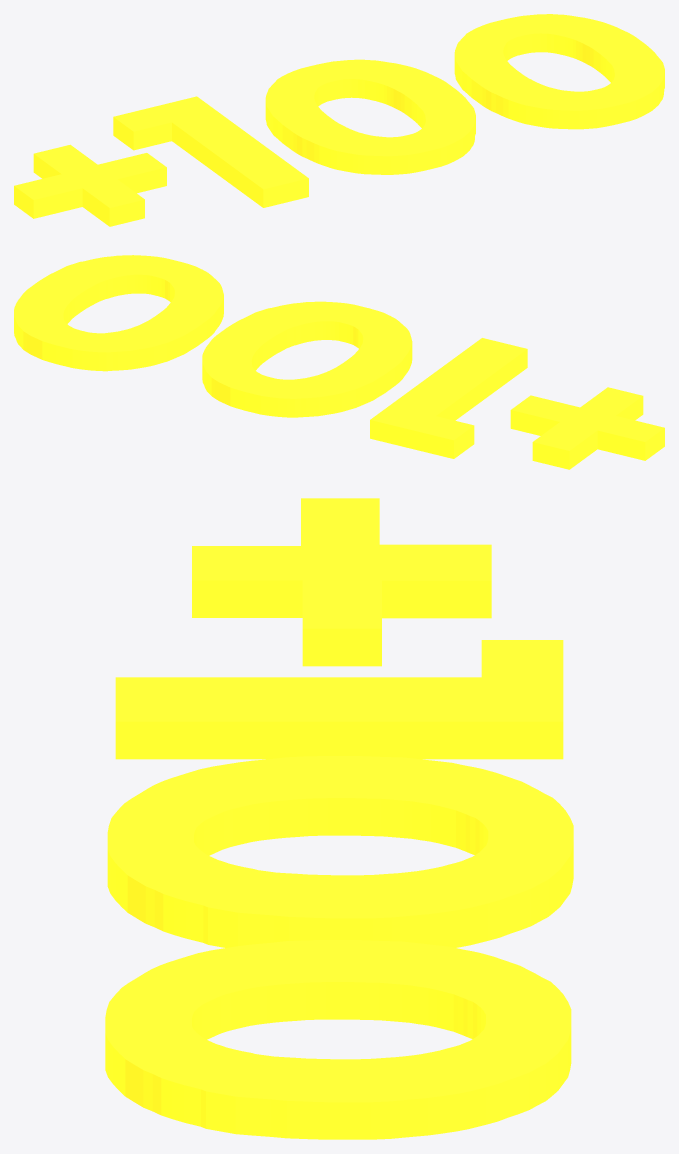
The model's file is plus100.fbx.
The picture shows the model from 3 angles, top to bottom: view 1: azimuth 30°, elevation 25°; view 2: azimuth 150°, elevation 25°; view 3: azimuth 270°, elevation 25°; orthographic projection. The views are drawn at different scales.
Parts seen in each view (by area): view 1: Plane.001, Plane.003, Plane.002, Empty.001; view 2: Plane.003, Plane.001, Plane.002, Empty.001; view 3: Plane.001, Plane.003, Plane.002, Empty.001.
Boxes of the visible parts, bbox=[...] form: Plane.001: bbox=[454, 14, 664, 129]; Plane.003: bbox=[265, 59, 475, 174]; Plane.002: bbox=[113, 96, 308, 207]; Empty.001: bbox=[14, 144, 166, 226]; Plane.003: bbox=[202, 301, 412, 417]; Plane.001: bbox=[14, 255, 223, 371]; Plane.002: bbox=[370, 338, 527, 458]; Empty.001: bbox=[510, 387, 664, 469]; Plane.001: bbox=[105, 940, 571, 1139]; Plane.003: bbox=[107, 756, 573, 947]; Plane.002: bbox=[115, 640, 563, 759]; Empty.001: bbox=[192, 498, 491, 666].
Bounding box in the file's own units: 176 × 536 × 15.56.
